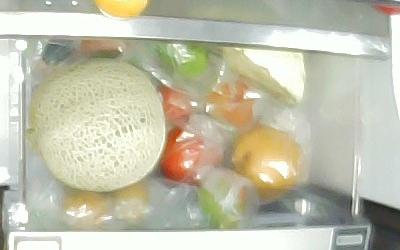cabbage: (209, 46, 306, 106)
carrot_vinyl: (80, 39, 126, 59)
melon: (35, 60, 165, 191)
pear_vinyl: (229, 131, 305, 203)
prune_vinyl: (209, 79, 254, 128)
tomato_vinyl: (157, 127, 223, 187), (196, 178, 250, 227), (158, 86, 193, 124)
